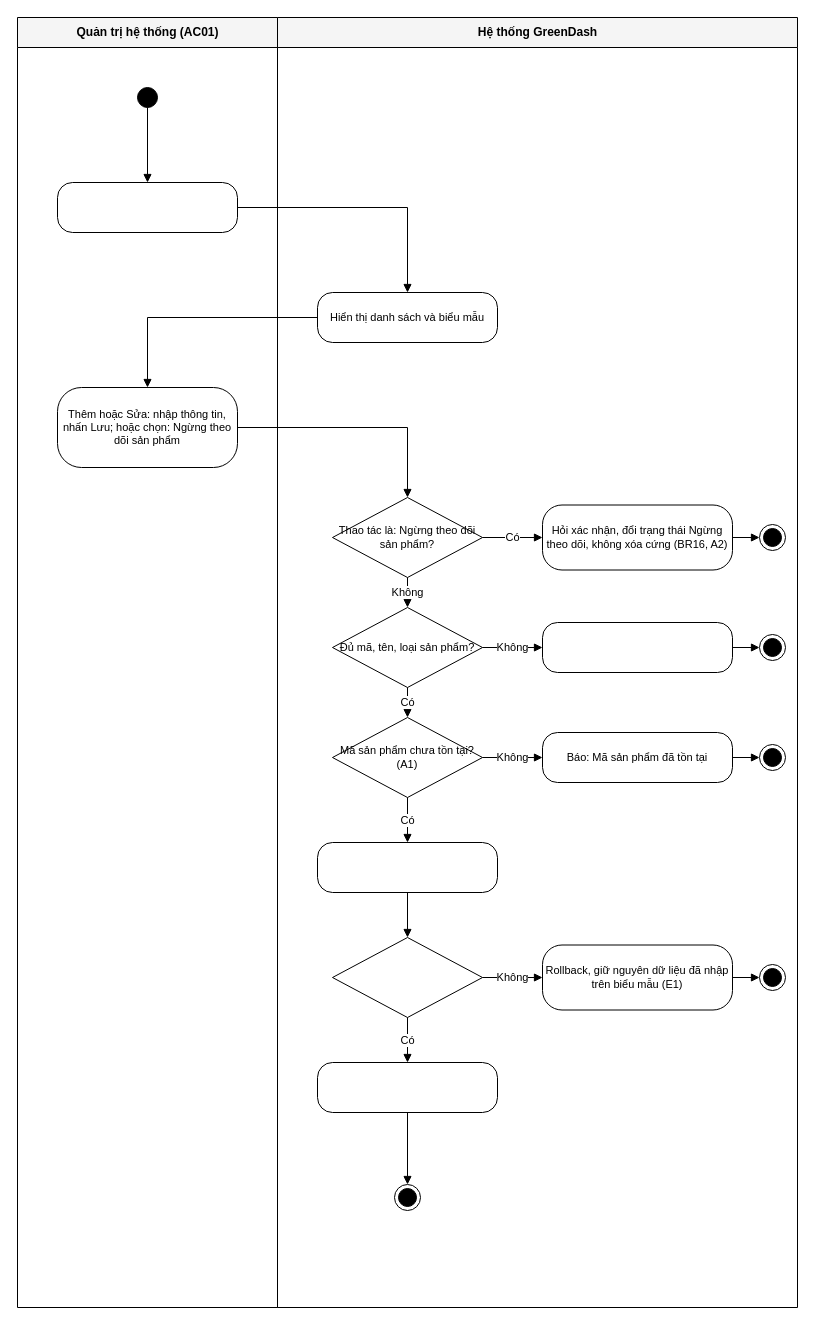
Image size: 815x1325. Some labels were removed from this diagram. Here are the shapes that lost their labels. From the top down, the centre of each, then its label:
At pixel 147 207: "Mở màn hình Sản phẩm, chọn thao tác".
At pixel 637 647: "Từ chối, báo thiếu thông tin".
At pixel 407 867: "Lưu sản phẩm, tạo khóa API riêng cho Collector".
At pixel 407 977: "Lưu thành công?".
At pixel 407 1087: "Thông báo thành công, cập nhật danh sách".
